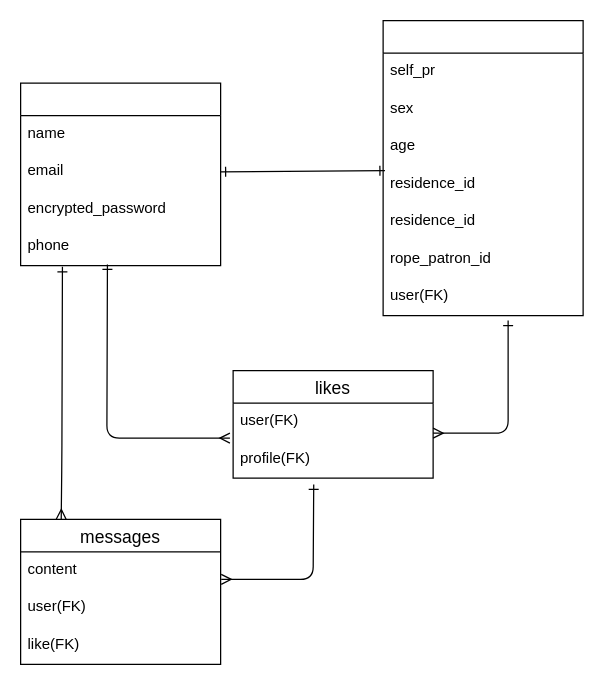
Some shapes in this 604 by 685 pixel diagram are drawn without their labels. Each missing label, with the box of its shape:
profiles: (382, 19, 583, 316)
users: (19, 82, 221, 266)
